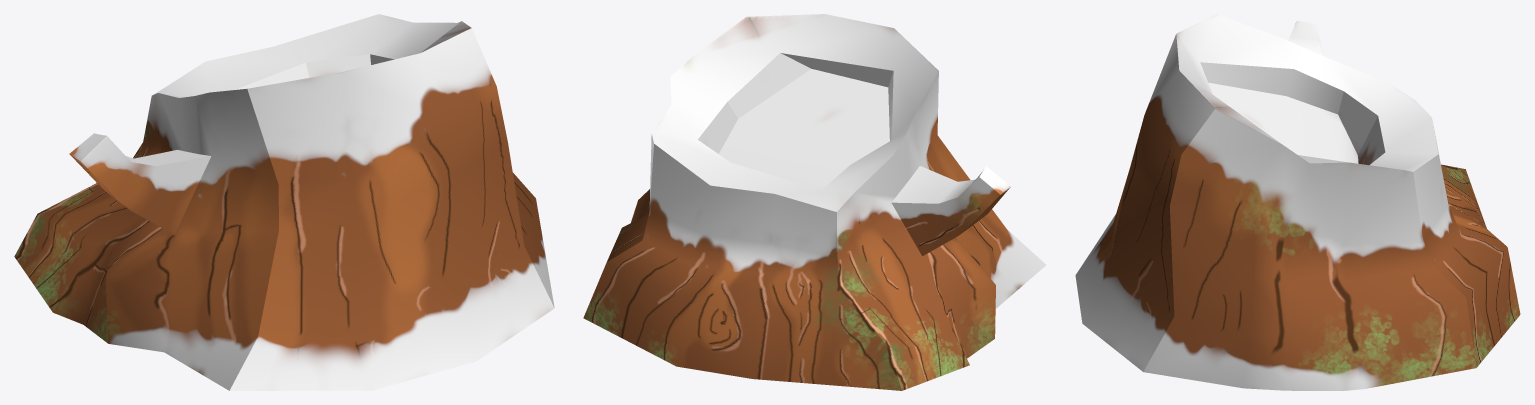
Rendered from stump_obj.fbx.
The picture shows the model from 3 angles, left to right: view 1: azimuth 30°, elevation 25°; view 2: azimuth 150°, elevation 25°; view 3: azimuth 270°, elevation 25°; orthographic projection. The views are drawn at different scales.
Visible parts, largest first — view 1: stump_low; view 2: stump_low; view 3: stump_low.
Part boxes in pixels (box(x1,y1,x2,y2)): stump_low: box(14, 14, 554, 390); stump_low: box(583, 14, 1046, 390); stump_low: box(1075, 14, 1520, 390).
Size of the model in its own units: 5.42 by 3.32 by 5.19.
